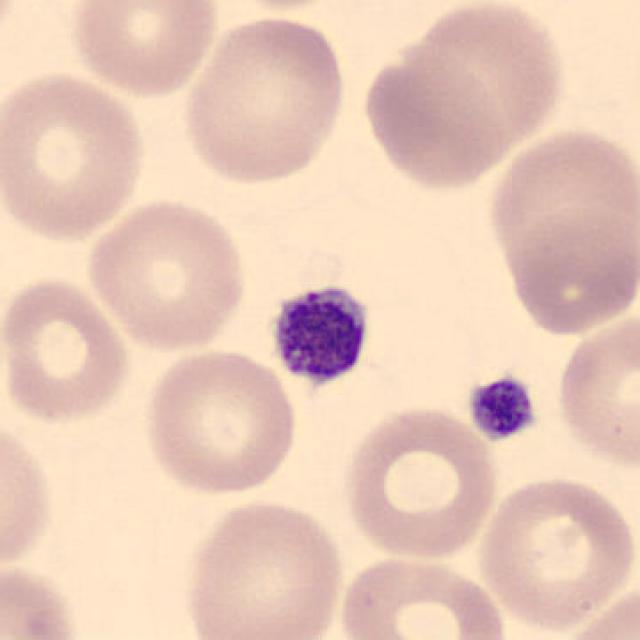Platelets: (261, 278, 377, 395), (464, 372, 540, 444)
RBC: (352, 0, 570, 190), (482, 120, 638, 331), (178, 12, 350, 189), (0, 65, 151, 245), (82, 194, 250, 354), (473, 471, 638, 633), (339, 400, 502, 562), (177, 493, 348, 640), (138, 344, 300, 499), (0, 272, 135, 428), (66, 0, 222, 99), (336, 552, 508, 640), (551, 308, 638, 478), (0, 409, 59, 580), (0, 557, 89, 640), (554, 580, 640, 640), (0, 1, 21, 70)
